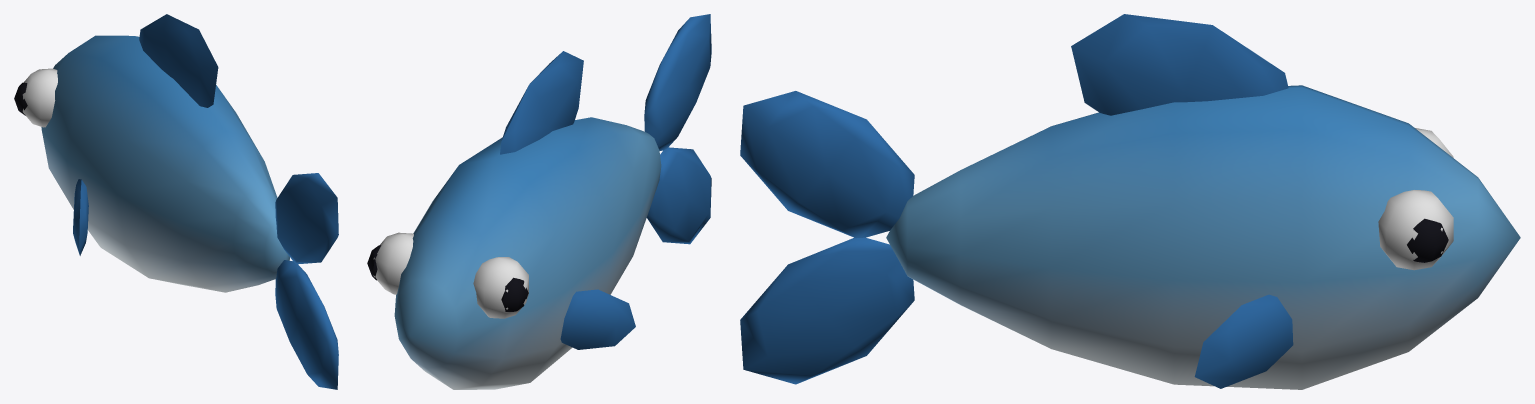
Rendered from pescado.glb.
3 renders of one model, left to right at view 1: azimuth 30°, elevation 25°; view 2: azimuth 150°, elevation 25°; view 3: azimuth 270°, elevation 25°, orthographic. The views are drawn at different scales.
Parts seen in each view (by area): view 1: pescado; view 2: pescado; view 3: pescado.
Boxes of the visible parts, bbox=[...] form: pescado: bbox=[14, 14, 338, 389]; pescado: bbox=[367, 14, 711, 389]; pescado: bbox=[740, 14, 1520, 389].
Bounding box in the file's own units: 0.5594 × 0.7727 × 1.46.
